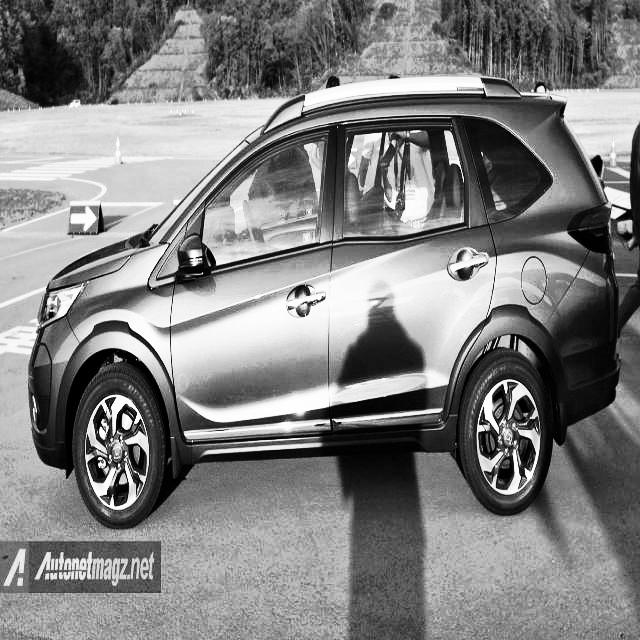Car: (24, 47, 624, 546)
